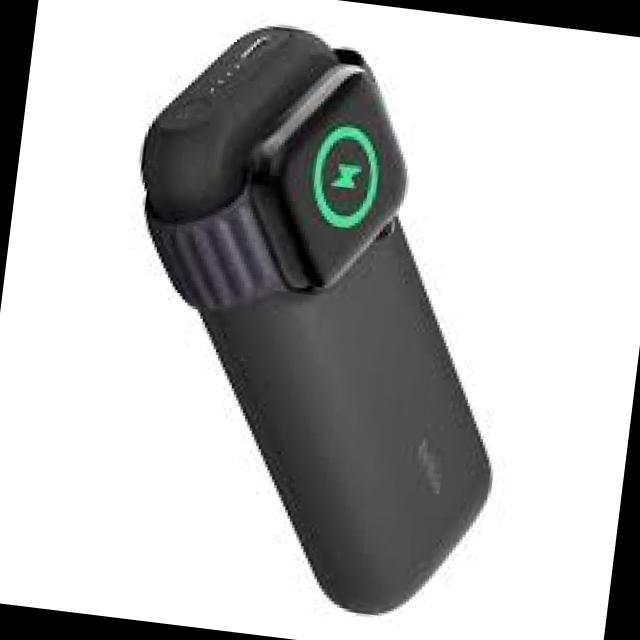portable-charger: (85, 11, 548, 630)
